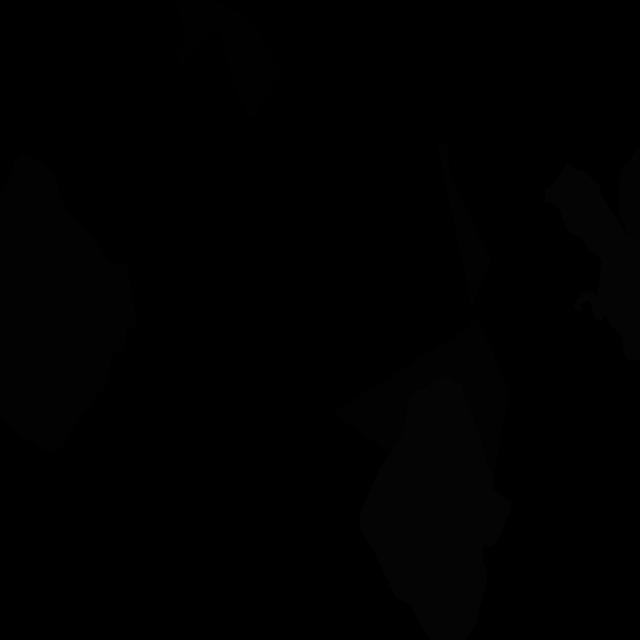cardboard: (0, 153, 136, 453), (334, 314, 509, 471), (438, 142, 492, 310)
metal: (619, 146, 640, 246)
rigid_plastic: (175, 0, 282, 119)
soft_plastic: (359, 375, 512, 640), (544, 164, 640, 361)
